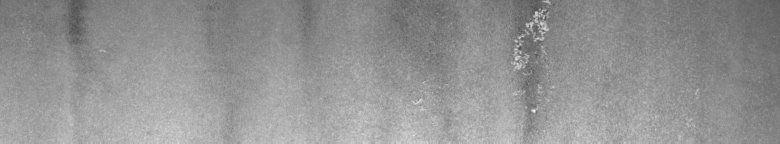hc: (504, 4, 560, 128)
